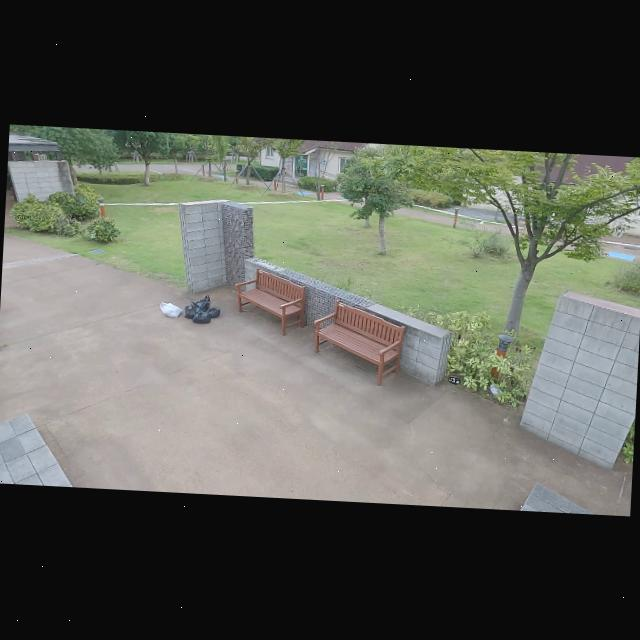trash: (158, 300, 183, 318), (184, 301, 202, 320), (194, 293, 212, 311), (192, 308, 212, 324), (488, 382, 503, 397), (206, 305, 222, 318), (446, 375, 462, 385)
